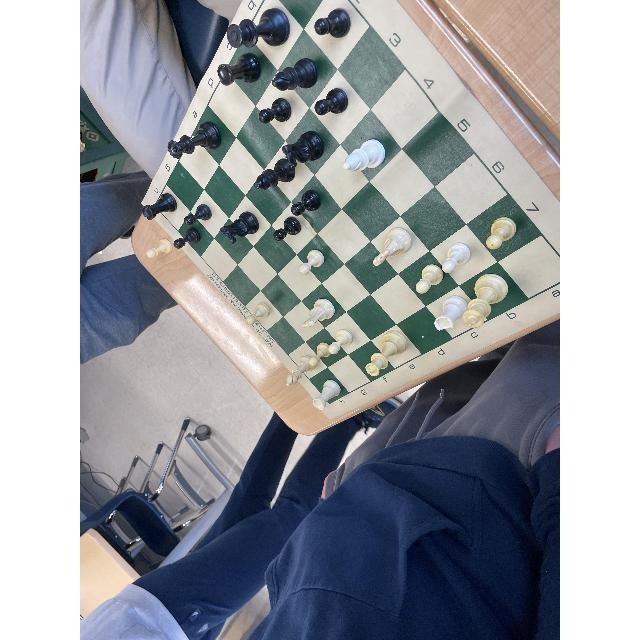black-bishop: (167, 132, 228, 174), (225, 8, 293, 43)
black-pawn: (264, 207, 326, 243), (251, 151, 305, 191), (272, 138, 324, 178), (213, 53, 264, 87), (309, 6, 355, 42), (311, 85, 353, 121), (226, 211, 266, 239), (282, 61, 316, 92), (259, 99, 294, 125), (181, 203, 213, 229)
black-rook: (80, 163, 99, 187)
white-bishop: (416, 277, 508, 340), (438, 157, 507, 219), (362, 273, 432, 317)
white-king: (373, 74, 441, 144), (325, 140, 402, 194)
white-pawn: (426, 224, 509, 286), (368, 219, 434, 271), (283, 301, 337, 337), (374, 331, 424, 367)
